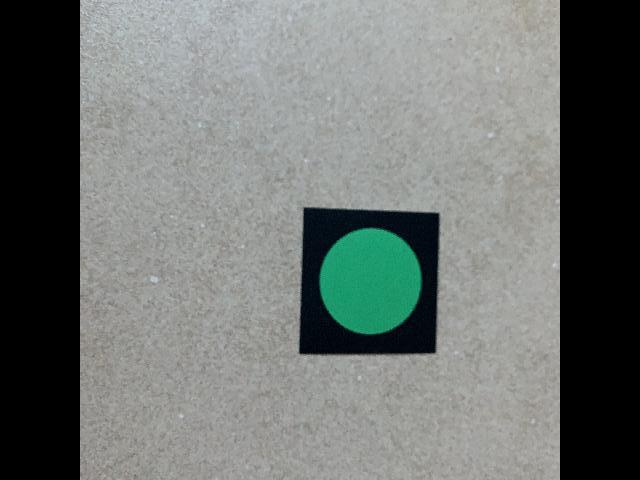go: (297, 205, 441, 356)
